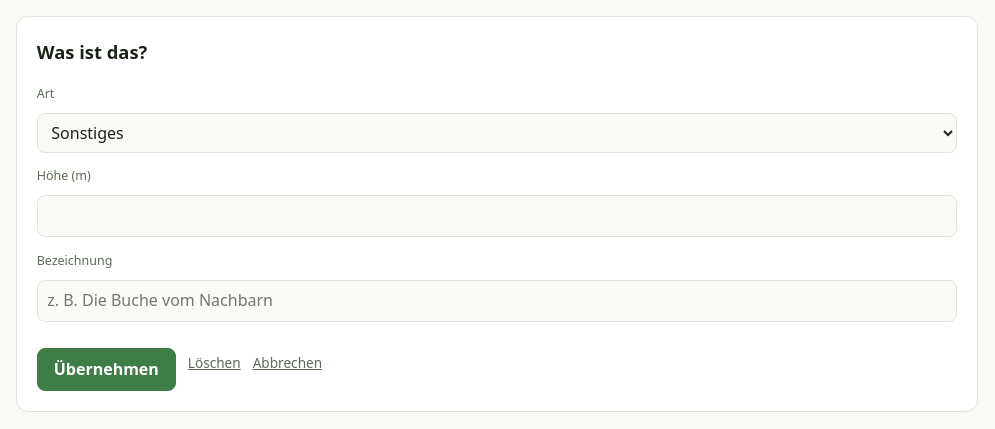
Test: ElementForm — deleting › lets the question be withdrawn
What coordinates should you click on to do the following:
click the button "Löschen"
I would click on:
 (214, 362)
Its box is x1=188 y1=352 x2=241 y2=373.
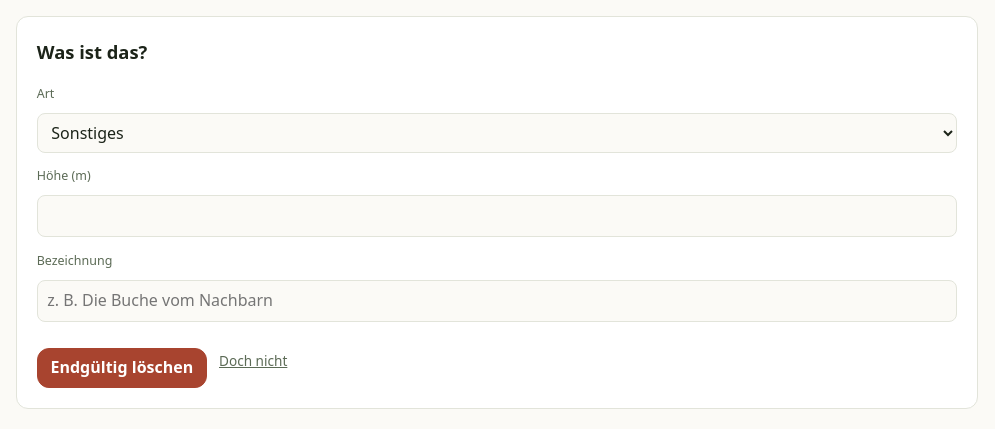
What coordinates should you click on to do the following:
click the button "Doch nicht"
I would click on:
 (253, 361)
Its box is x1=219 y1=350 x2=287 y2=372.
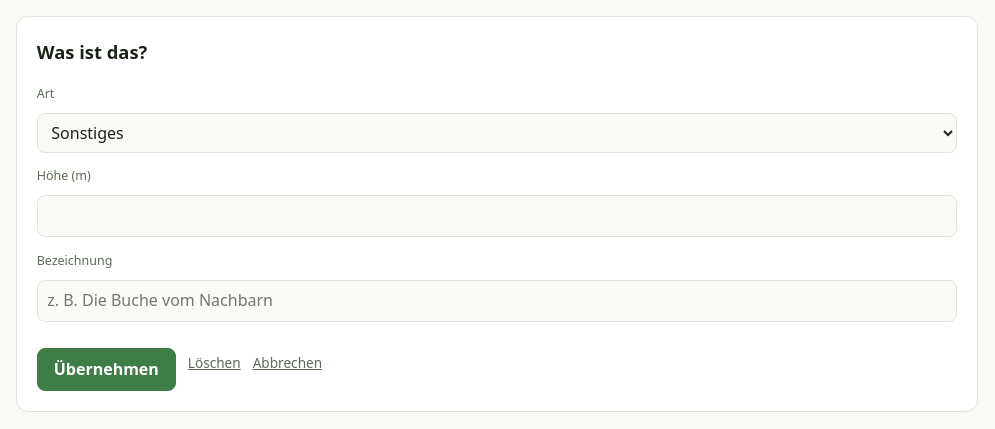
Result: the button "Löschen" is shown at x1=188 y1=352 x2=241 y2=373
